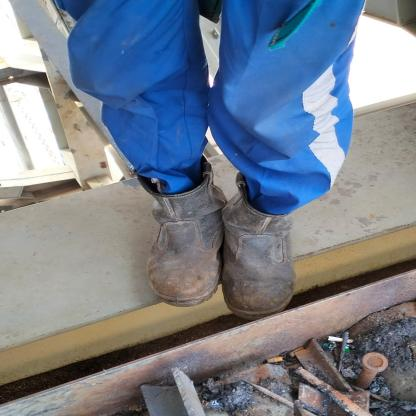bota: (131, 162, 224, 309), (217, 176, 301, 320)
